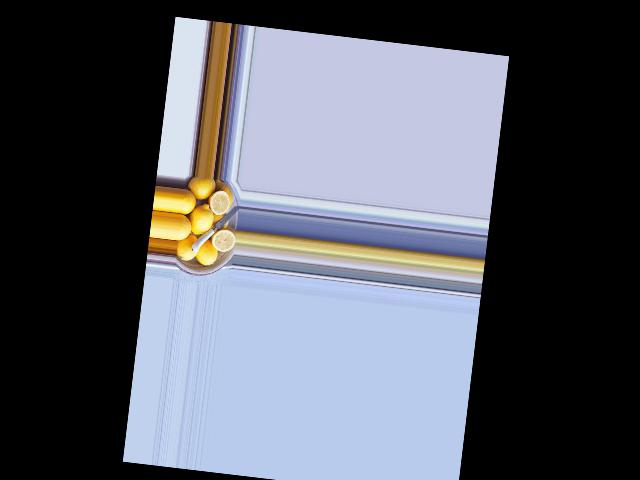lemon: (186, 176, 219, 203)
